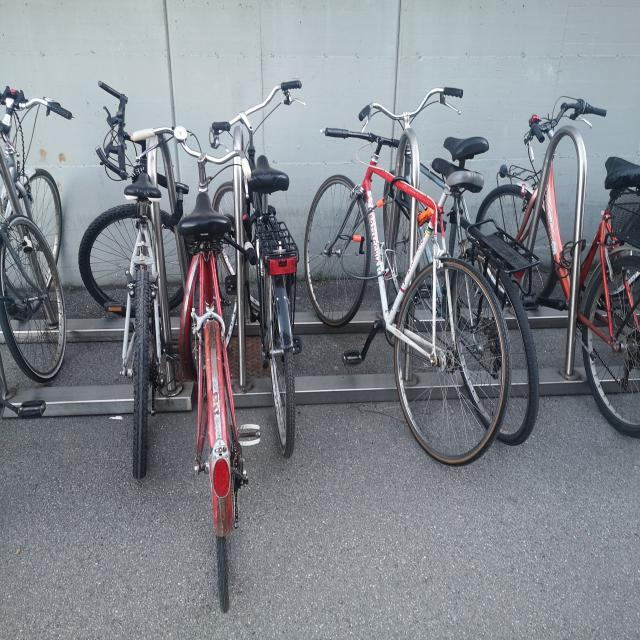Bicycle: (294, 58, 508, 530), (367, 108, 539, 457), (148, 78, 252, 622), (494, 81, 640, 447), (206, 102, 326, 450), (85, 57, 180, 463), (0, 169, 62, 424), (0, 82, 80, 278)
